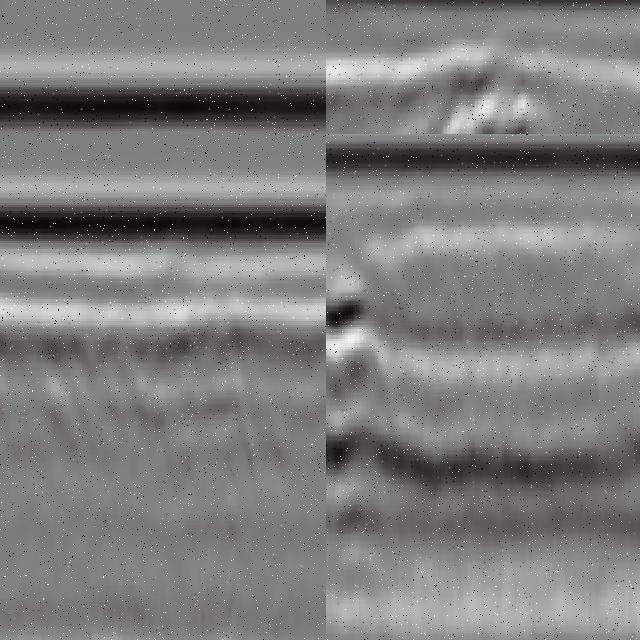loose: (23, 312, 252, 434), (327, 274, 425, 494), (403, 71, 543, 135)
